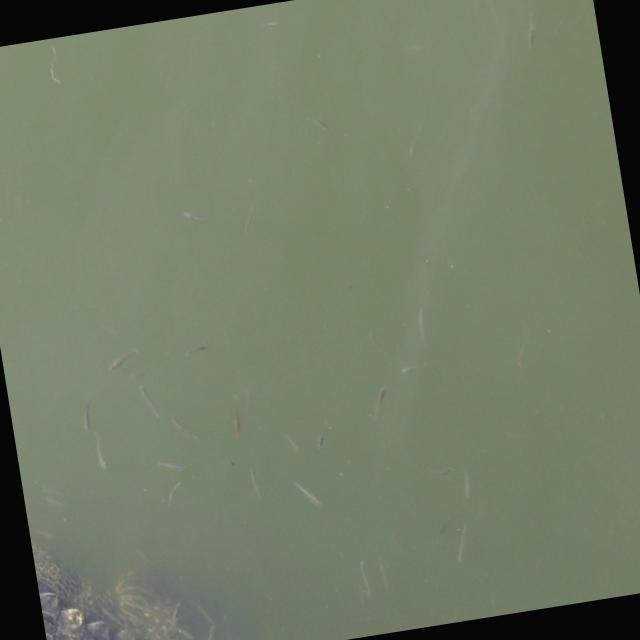Sivrisinek Baligi: (293, 470, 330, 520), (36, 474, 72, 518), (509, 322, 537, 376), (172, 412, 204, 450), (368, 378, 393, 424), (452, 523, 474, 572), (137, 381, 163, 422), (92, 428, 113, 478), (156, 452, 190, 482), (415, 297, 433, 350), (103, 348, 140, 372), (181, 334, 212, 360), (77, 396, 98, 434), (356, 556, 374, 600), (230, 398, 247, 439), (247, 466, 264, 500), (460, 468, 475, 504)
